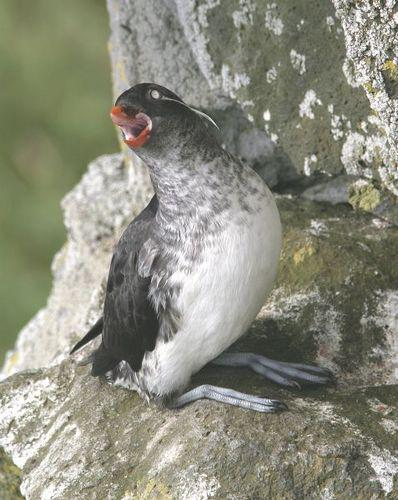007.Parakeet_Auklet: (68, 80, 339, 415)
